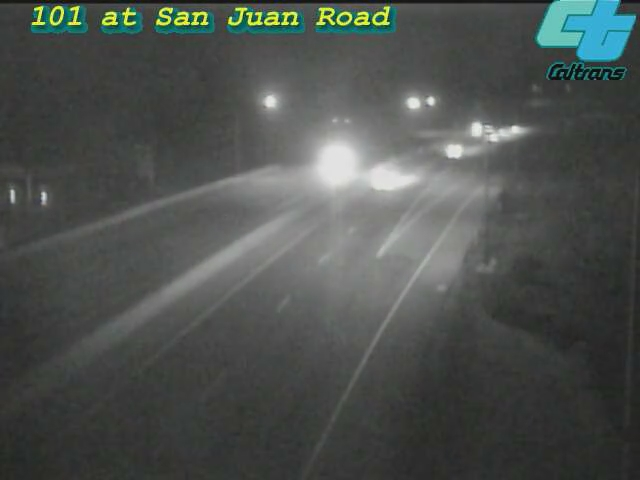vehicle: (304, 118, 384, 198), (356, 134, 436, 214), (452, 102, 502, 152), (489, 104, 539, 154), (471, 108, 521, 158), (432, 125, 482, 175)
